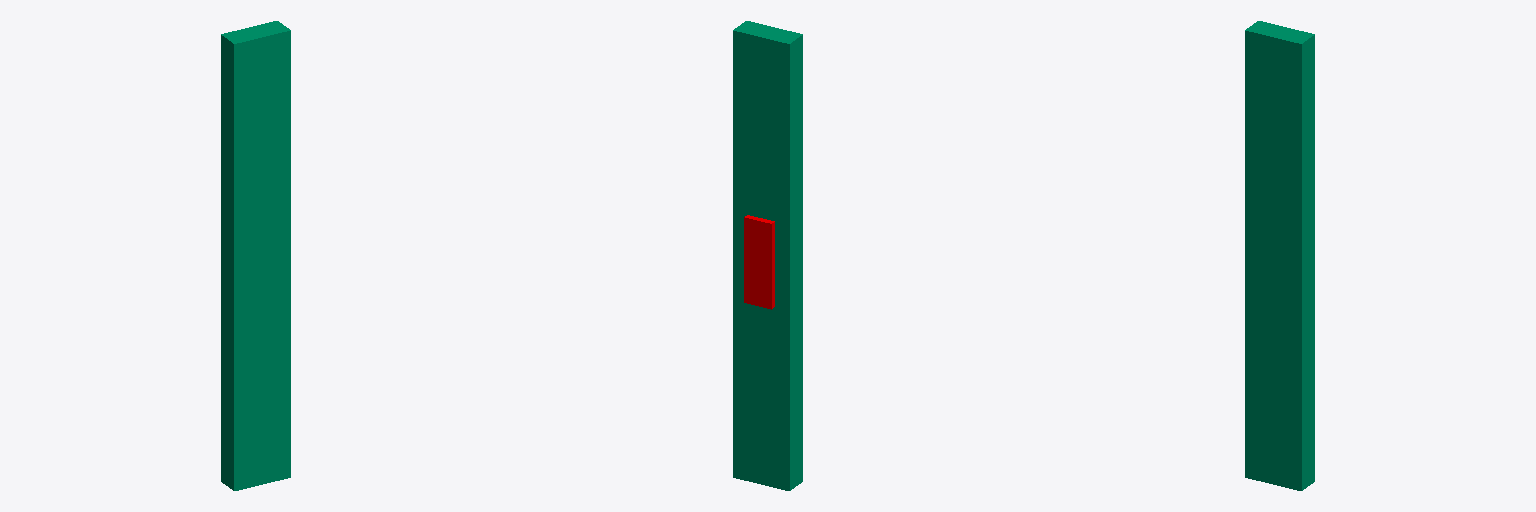
robot.urdf — knife:
<?xml version='1.0' encoding='utf-8'?>
<robot name="knife">
  <link name="base" /><joint name="joint_0" type="fixed"><origin xyz="0 0 0" rpy="0 0 0" /><parent link="base" /><child link="link_0" /></joint><link name="link_1">
    <visual name="link_1">
      <origin xyz="0 0.005179 0" rpy="0 0 0" />
      <geometry>
        <box size="0.00968409726398315 0.0020573310048463524 0.028934836001034577" /></geometry>
    <material name="red"><color rgba="1 0 0 1" /></material></visual>
    <collision>
      <origin xyz="0 0.005179 0" rpy="0 0 0" />
      <geometry>
        <box size="0.00968409726398315 0.0020573310048463524 0.028934836001034577" /></geometry>
    </collision>
    </link>
  <joint name="joint_1" type="prismatic">
    <origin xyz="0 0 0" />
    <axis xyz="0 0 1" />
    <child link="link_1" />
    <parent link="link_0" />
    <limit lower="-0.042347" upper="0.007653" effort="100.0" velocity="1.0" />
  </joint>
  <link name="link_0">
    <visual name="link_0">
      <origin xyz="0 0 0" />
      <geometry>
        <box size="0.02008905555365981 0.008300525988939779 0.15129611590196954" /></geometry>
    </visual>
    <collision>
      <origin xyz="0 0 0" />
      <geometry>
        <box size="0.02008905555365981 0.008300525988939779 0.15129611590196954" /></geometry>
    </collision>
    </link>
</robot>

--- Render facts (derived) ---
The picture shows the robot from 3 angles, left to right: view 1: azimuth 30°, elevation 25°; view 2: azimuth 150°, elevation 25°; view 3: azimuth 330°, elevation 25°; orthographic projection.
Robot: knife — 3 links, 2 joints (1 prismatic, 1 fixed); root link base; default pose: all joints at 0.
Links seen in each view (by area): view 1: link_0; view 2: link_0, link_1; view 3: link_0.
Boxes of the visible links, x1,y1,x2,y2 form: link_0: [221, 21, 290, 490]; link_0: [733, 21, 802, 490]; link_1: [744, 215, 774, 309]; link_0: [1245, 21, 1314, 490].
Bounding box of the posed robot: 0.0201 × 0.0104 × 0.1513 m (x, y, z).
Geometry: primitives only (box / cylinder / sphere), no mesh files.
